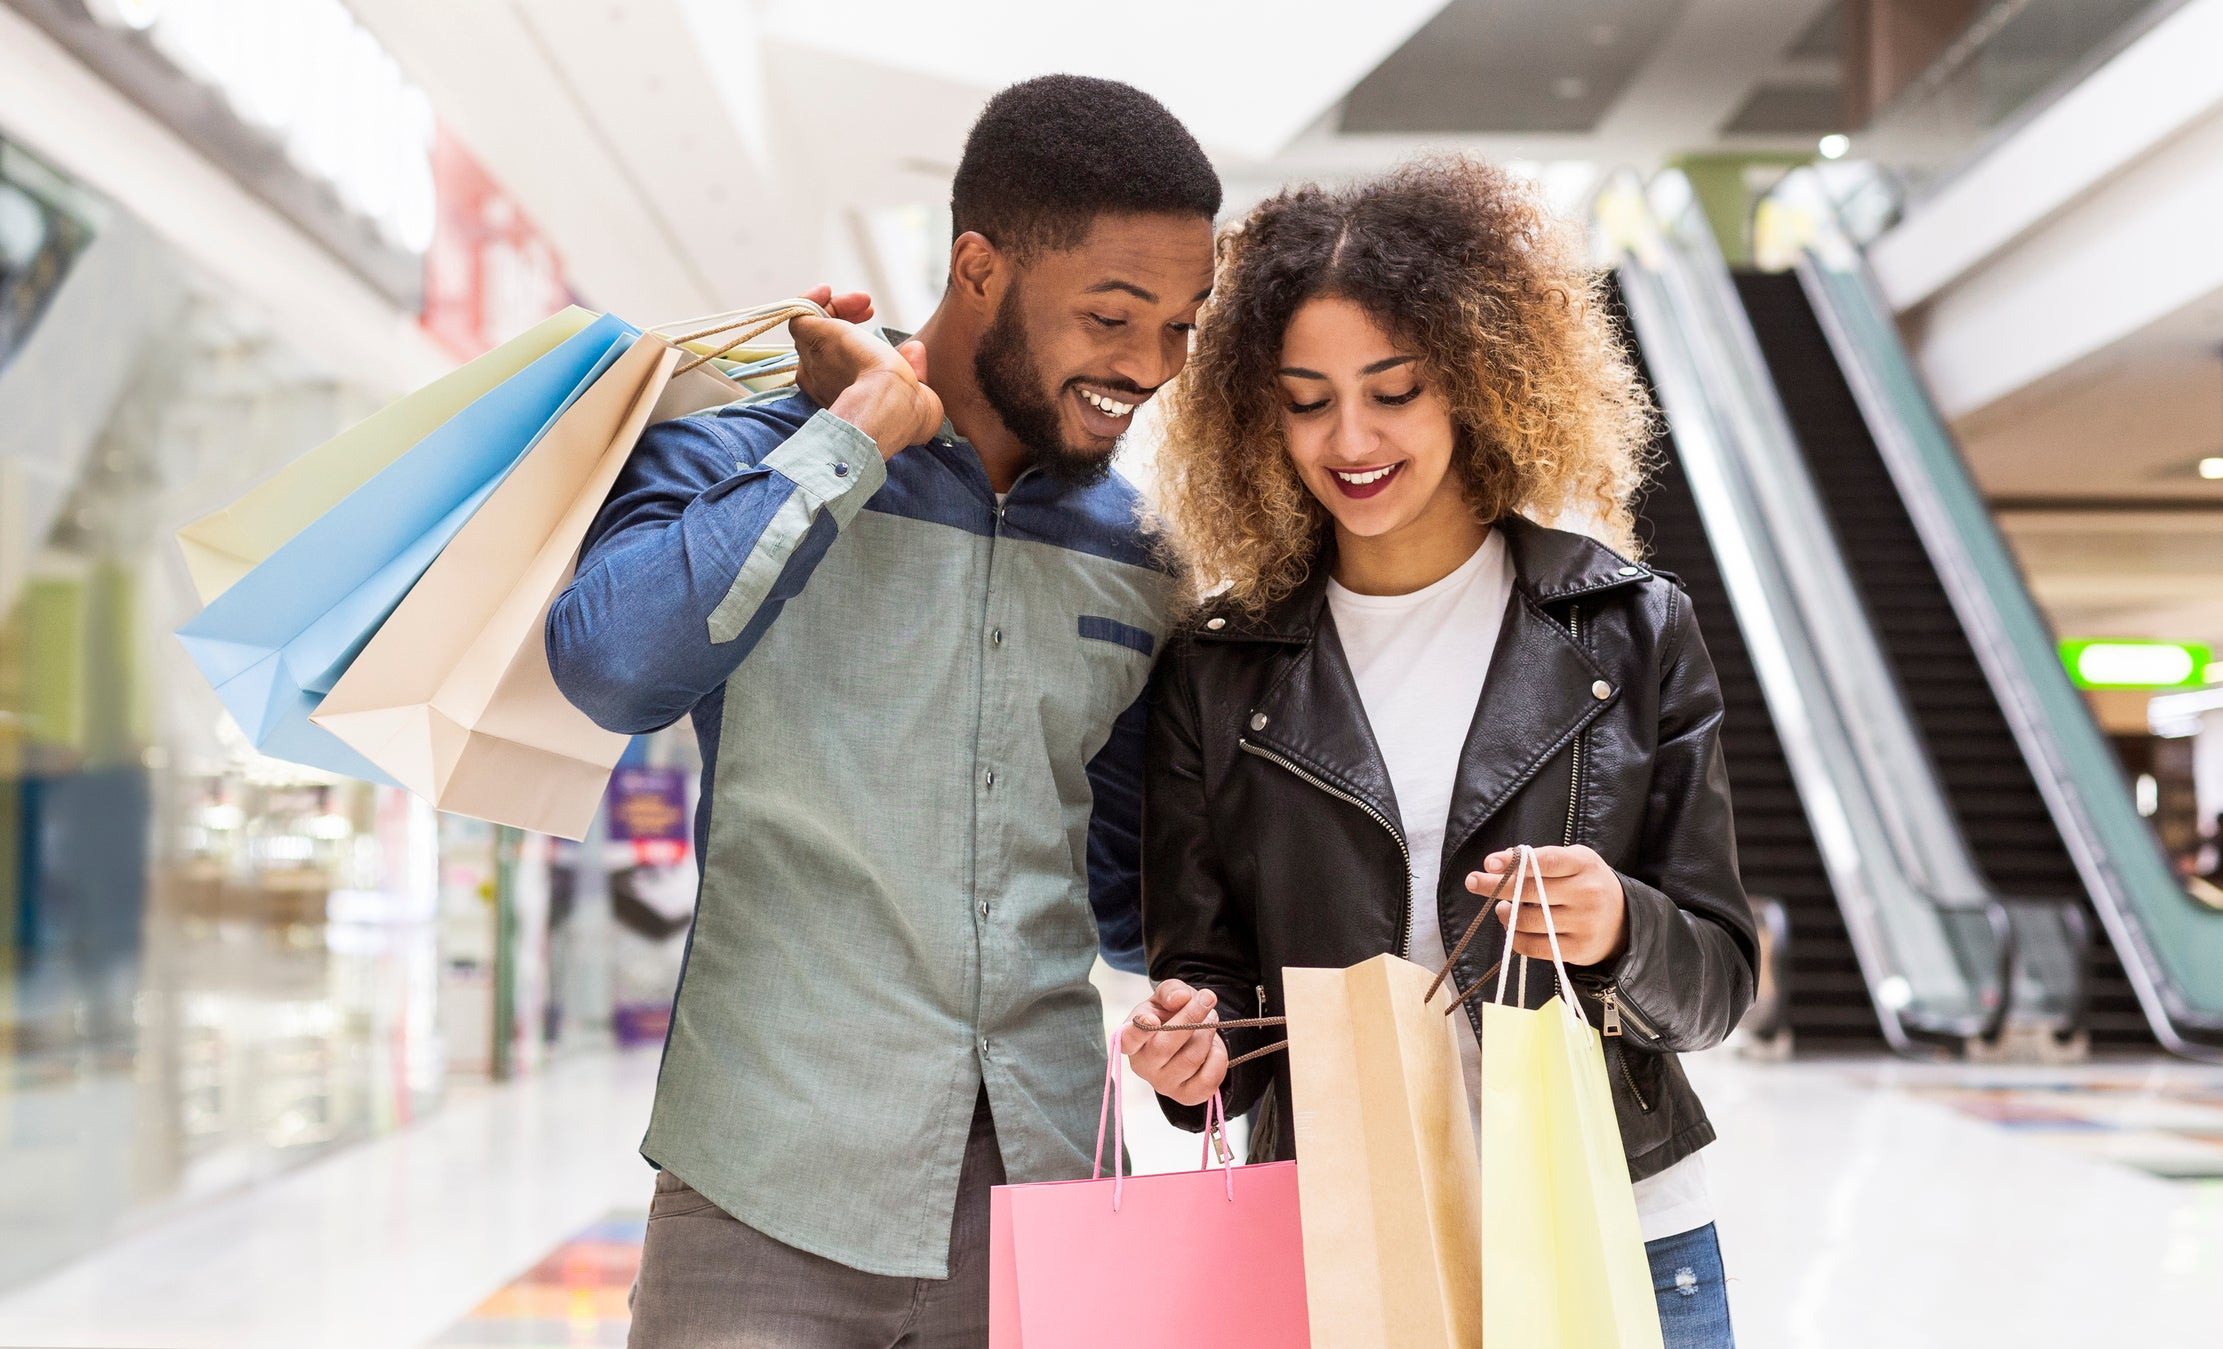Person: (541, 70, 1234, 1349), (1201, 204, 1742, 1349)
